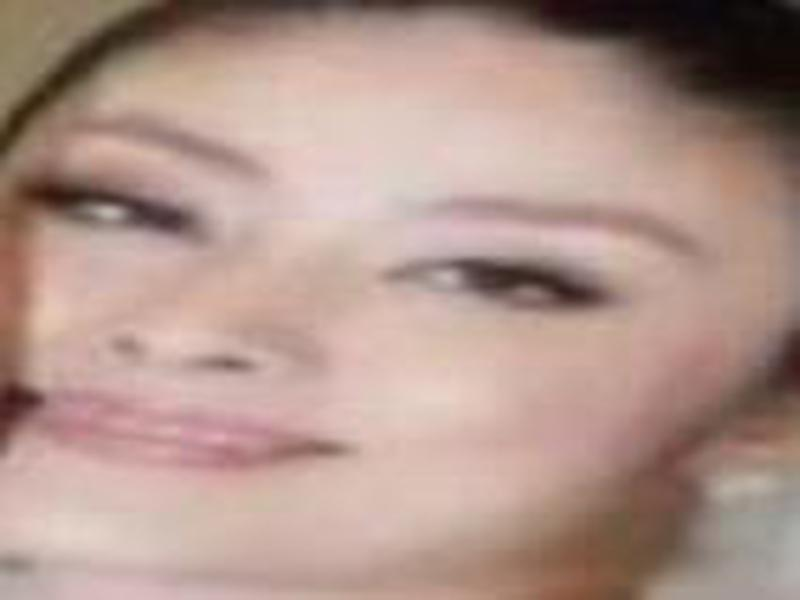without_mask: (8, 10, 793, 593)
